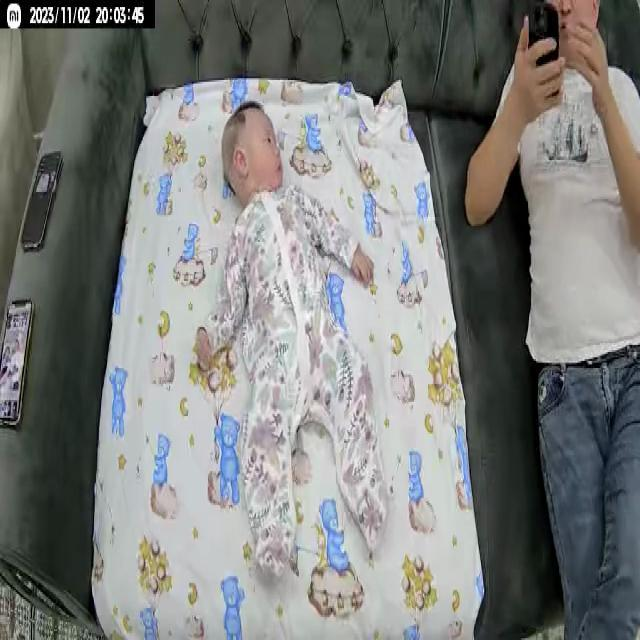baby: (192, 98, 396, 573)
